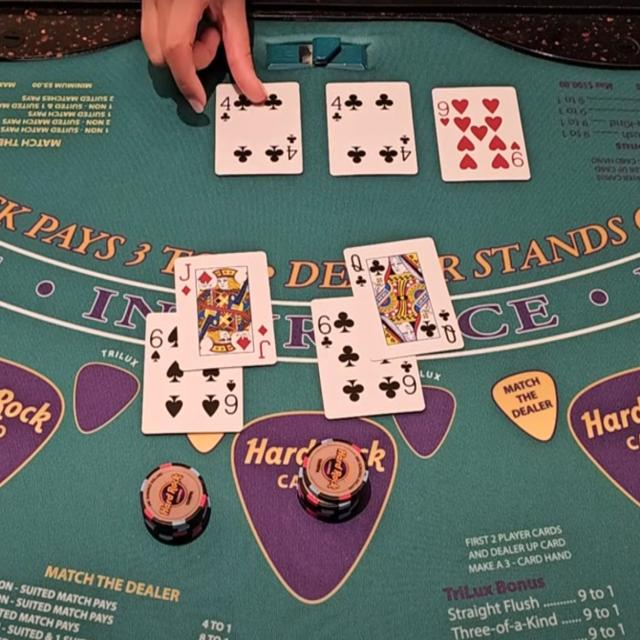4: (328, 91, 344, 112), (220, 94, 233, 113)
6: (316, 312, 334, 336), (147, 326, 165, 350)
9: (435, 99, 451, 118)
J: (177, 262, 192, 282)
Q: (348, 250, 367, 274)
